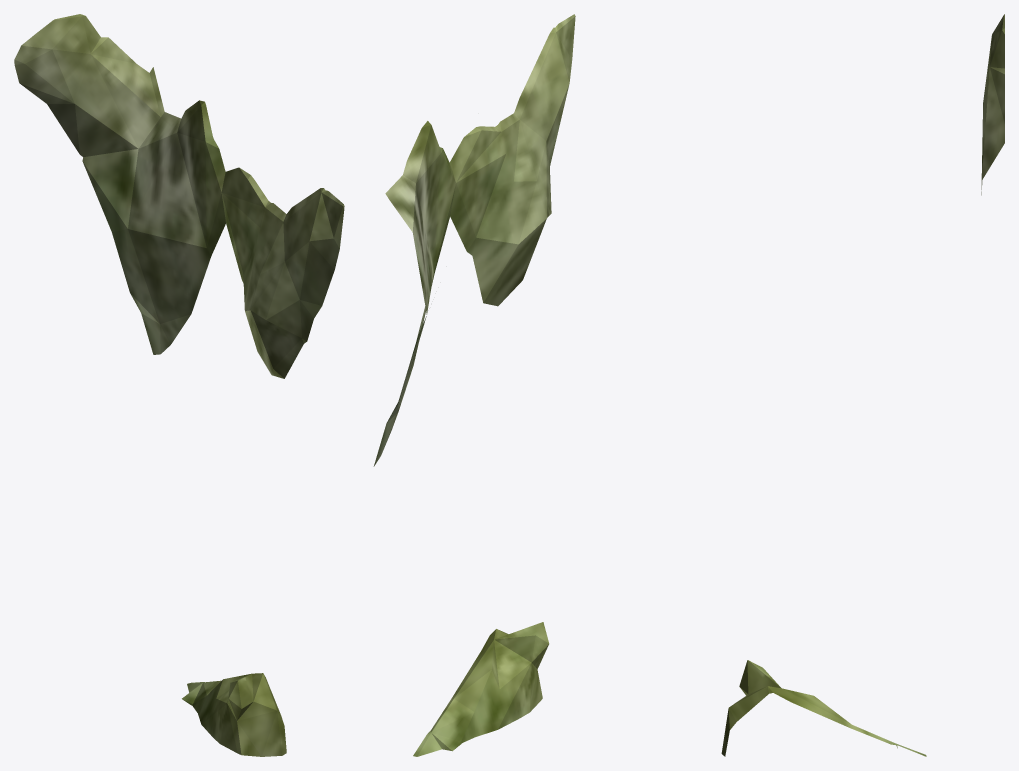
3 renders of one model, left to right at view 1: azimuth 30°, elevation 25°; view 2: azimuth 150°, elevation 25°; view 3: azimuth 270°, elevation 25°, orthographic. The views are drawn at different scales.
Bounding box in the file's own units: 0.6249 × 2.84 × 1.49.
1 material, 1 textured.
